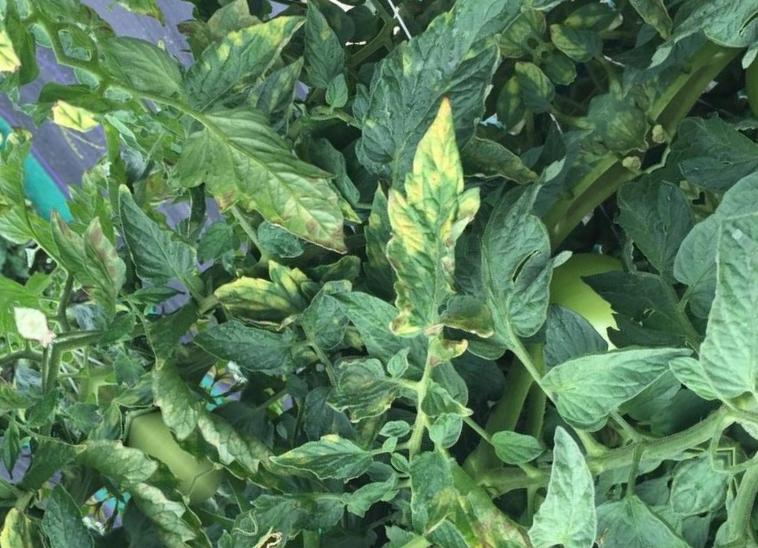Tomato mold leaf: (311, 94, 555, 340), (137, 64, 377, 300), (523, 283, 693, 455), (624, 213, 758, 417), (70, 168, 222, 318), (488, 418, 646, 548), (173, 0, 318, 140), (390, 445, 575, 548), (84, 10, 201, 124), (311, 332, 417, 439)
